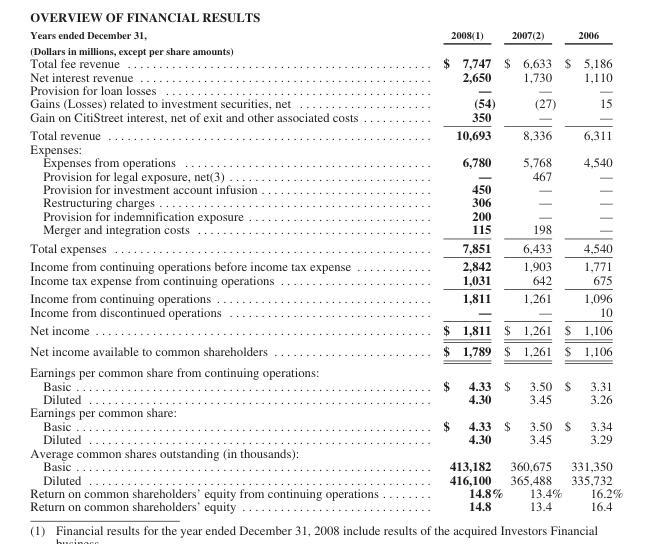table: (29, 28, 622, 513)
table column: (29, 28, 410, 513), (410, 28, 503, 513), (562, 28, 622, 513), (503, 28, 562, 513)
table column header: (29, 28, 622, 42)
table projected row header: (29, 361, 622, 378), (29, 42, 622, 55), (29, 141, 622, 154), (29, 405, 622, 418), (29, 445, 622, 458)
table row: (29, 340, 622, 361), (29, 320, 622, 340), (29, 237, 622, 256), (29, 361, 622, 378), (29, 109, 622, 125), (29, 125, 622, 141), (29, 221, 622, 237), (29, 256, 622, 272), (29, 272, 622, 288), (29, 288, 622, 304), (29, 304, 622, 320), (29, 28, 622, 42), (29, 55, 622, 69), (29, 82, 622, 96), (29, 154, 622, 168), (29, 181, 622, 195), (29, 391, 622, 405), (29, 418, 622, 432), (29, 458, 622, 472), (29, 485, 622, 499), (29, 499, 622, 513), (29, 42, 622, 55), (29, 69, 622, 82), (29, 96, 622, 109), (29, 141, 622, 154), (29, 168, 622, 181), (29, 195, 622, 208), (29, 208, 622, 221), (29, 378, 622, 391), (29, 405, 622, 418), (29, 432, 622, 445), (29, 445, 622, 458), (29, 472, 622, 485)
